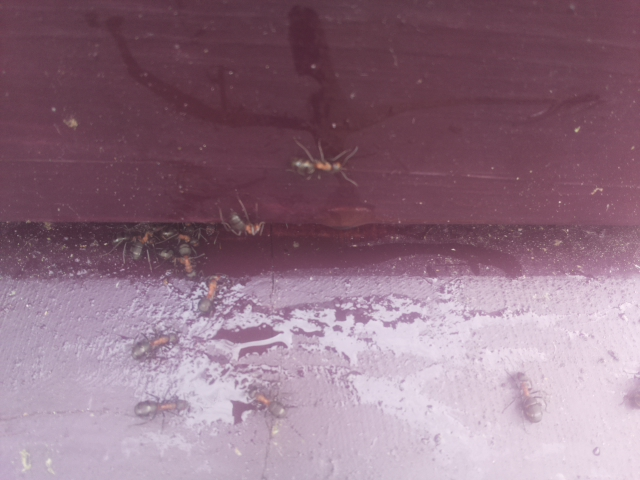ant: (122, 327, 185, 367), (506, 368, 548, 426), (240, 384, 292, 424), (282, 149, 347, 181), (216, 204, 270, 242), (119, 220, 163, 266), (194, 267, 229, 320), (127, 394, 196, 420), (171, 233, 201, 278)
